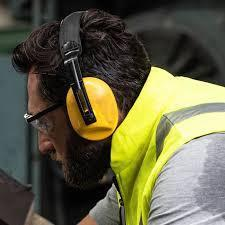Ear_protector: (62, 71, 120, 147)
Vest: (118, 57, 225, 225)
Visor: (16, 98, 65, 137)
